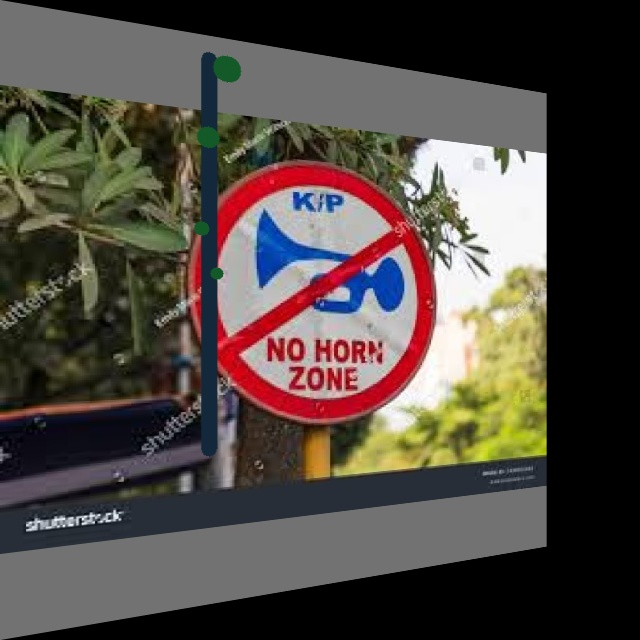Horn_Prohibited: (197, 151, 432, 424)
